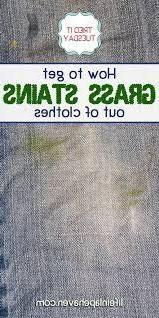earth: (20, 132, 61, 162), (117, 188, 141, 208)
